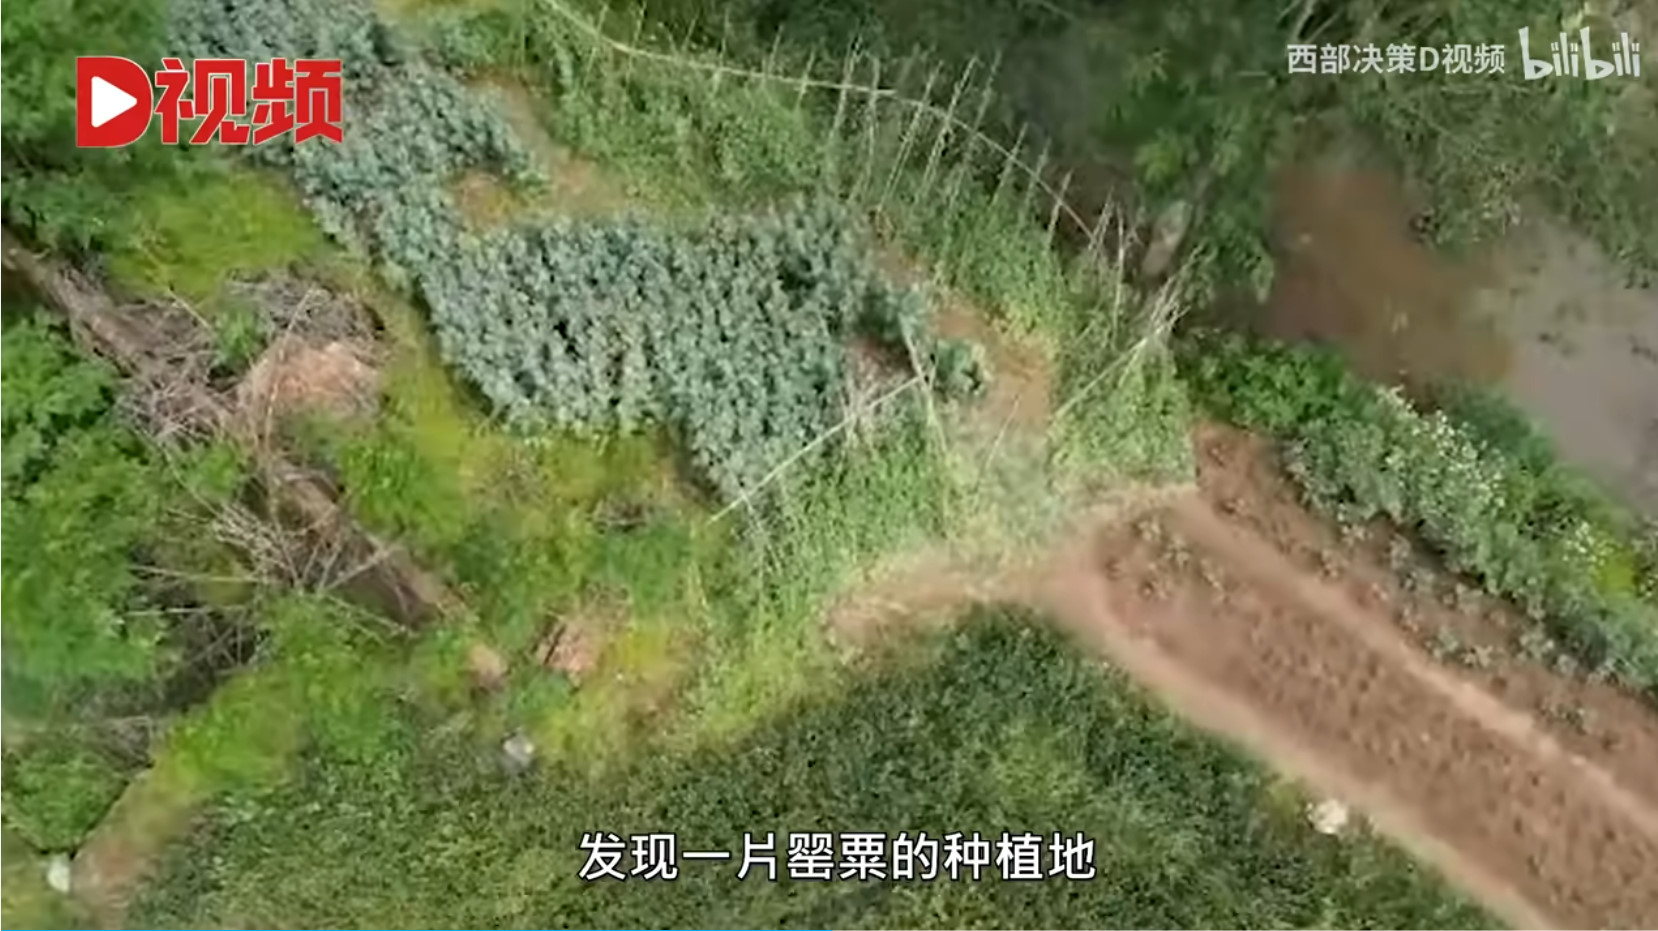Poppy: (325, 193, 999, 493), (156, 3, 564, 205)
